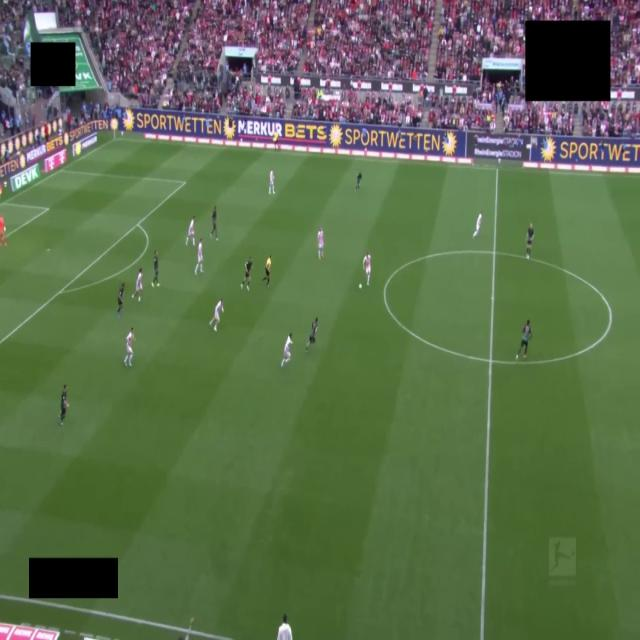ball: (359, 284, 362, 288)
player: (516, 320, 532, 359), (210, 299, 223, 331), (241, 256, 252, 291), (124, 328, 134, 366), (281, 333, 292, 367), (59, 384, 68, 425), (306, 318, 317, 351), (132, 268, 142, 302), (526, 223, 534, 259), (186, 216, 195, 246), (152, 250, 159, 287), (117, 282, 124, 318), (195, 239, 202, 274), (473, 212, 482, 239), (363, 253, 370, 286), (211, 207, 218, 239), (0, 214, 6, 246), (318, 228, 323, 259), (269, 169, 275, 194), (356, 172, 361, 190)
referee: (262, 256, 271, 287)
